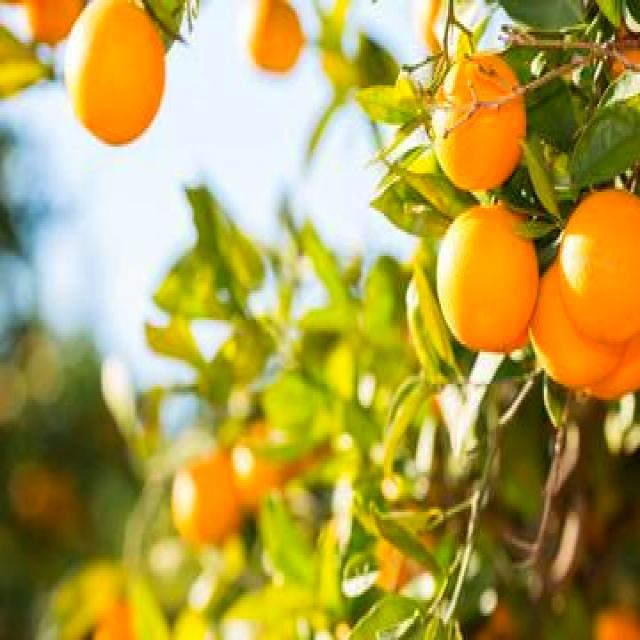Jeruk Sudah Matang: (437, 200, 539, 352), (69, 2, 169, 152), (532, 246, 630, 390), (434, 51, 526, 192), (560, 184, 640, 344), (174, 456, 240, 544), (248, 0, 310, 75), (234, 418, 286, 504), (28, 0, 80, 43)
